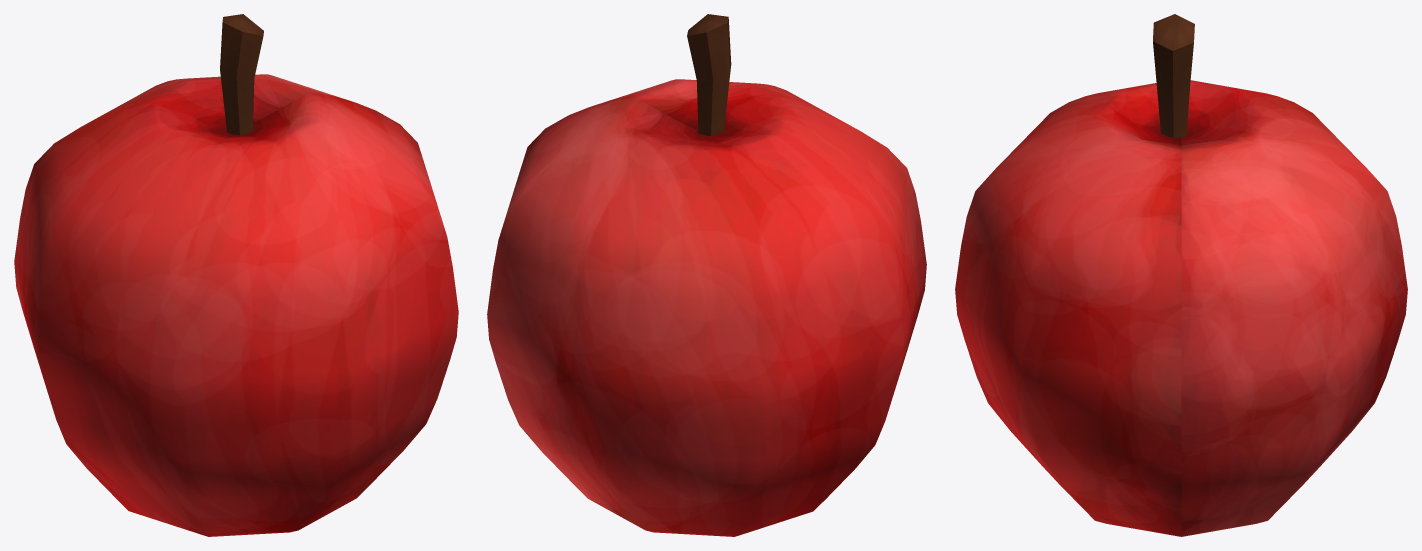
Rendered from Apple.fbx.
3 views of the same model, side by side, from view 1: azimuth 30°, elevation 25°; view 2: azimuth 150°, elevation 25°; view 3: azimuth 270°, elevation 25° (orthographic).
Visible parts, largest first — view 1: Apple; view 2: Apple; view 3: Apple.
Boxes of the visible parts, <box> form: Apple: <box>14,14,458,536</box>; Apple: <box>487,14,926,536</box>; Apple: <box>955,14,1407,536</box>.
Size of the model in its own units: 0.7935 by 0.9314 by 0.7935.
1 material, 1 textured.
